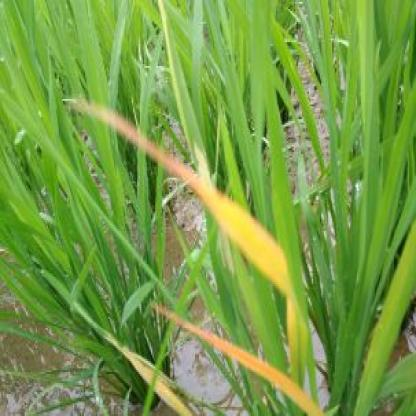Tungro: (68, 116, 289, 272)
